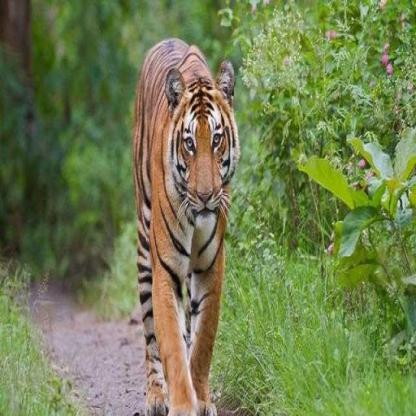Tiger: (123, 28, 248, 415)
